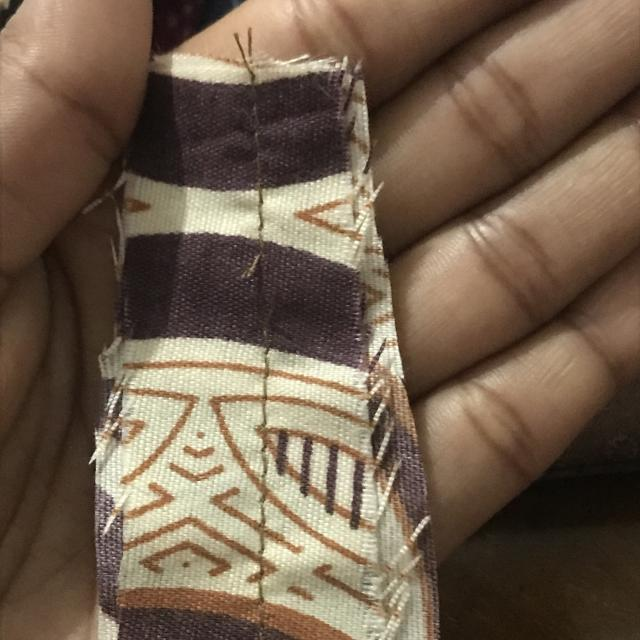broken: (232, 247, 291, 361)
good: (249, 447, 286, 583)
